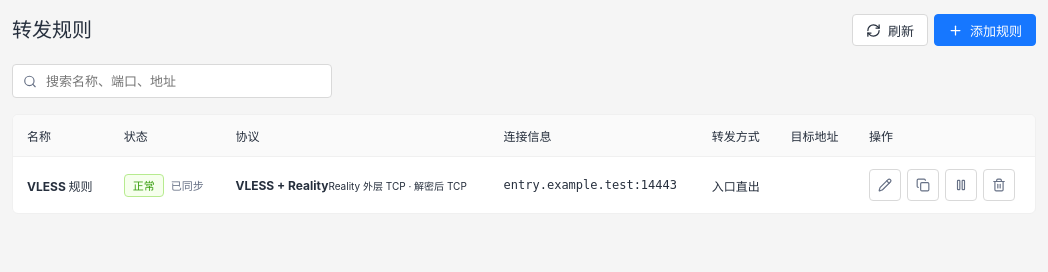
ServicesPage › blocks copying a SOCKS5-backed VLESS rule whose upstream password is write-only
Click the button named "复制规则": (923, 185) [907,169,939,201]
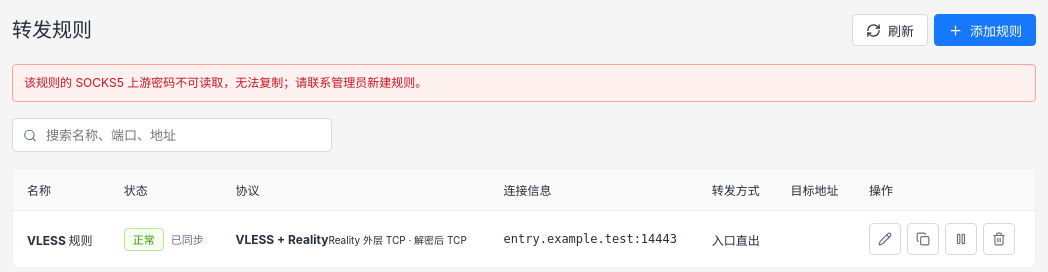
Result: the message "该规则的 SOCKS5 上游密码不可读取，无法复制；请联系管理员新建规则。" is shown at [12,64,1036,102]
